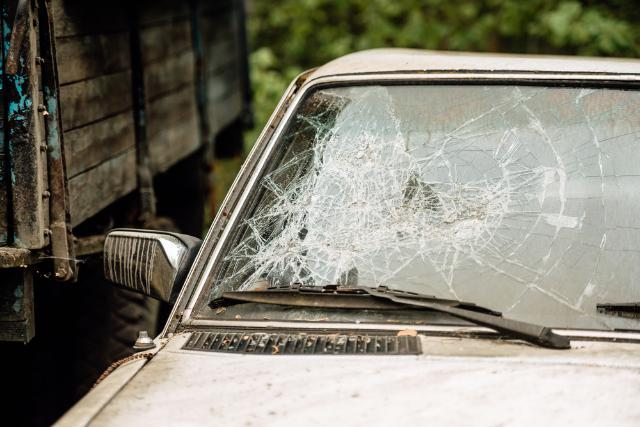glass shatter: (198, 85, 640, 333)
